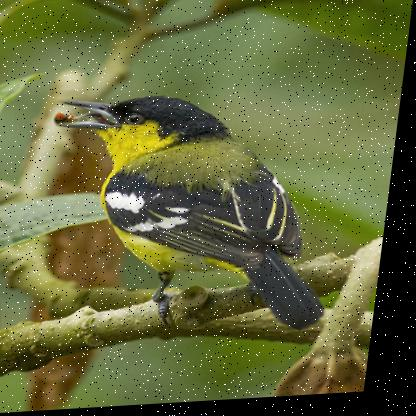Burung: (39, 87, 357, 346)
